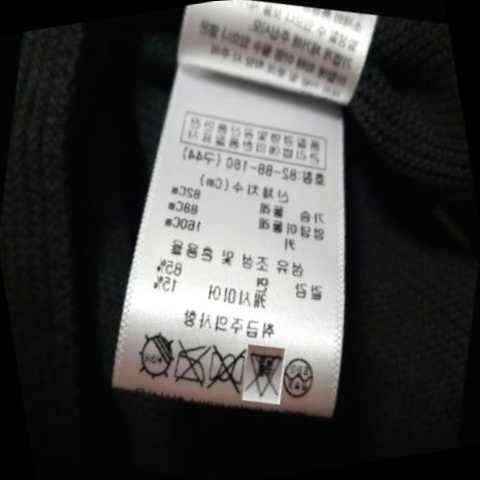DN_iron: (168, 339, 211, 391)
DN_wring: (203, 341, 247, 395)
dry_clean_petrol_only: (278, 347, 319, 403)
dry_flat_in_shade: (132, 325, 182, 386)
non_chlorine_bleach: (243, 344, 286, 400)
